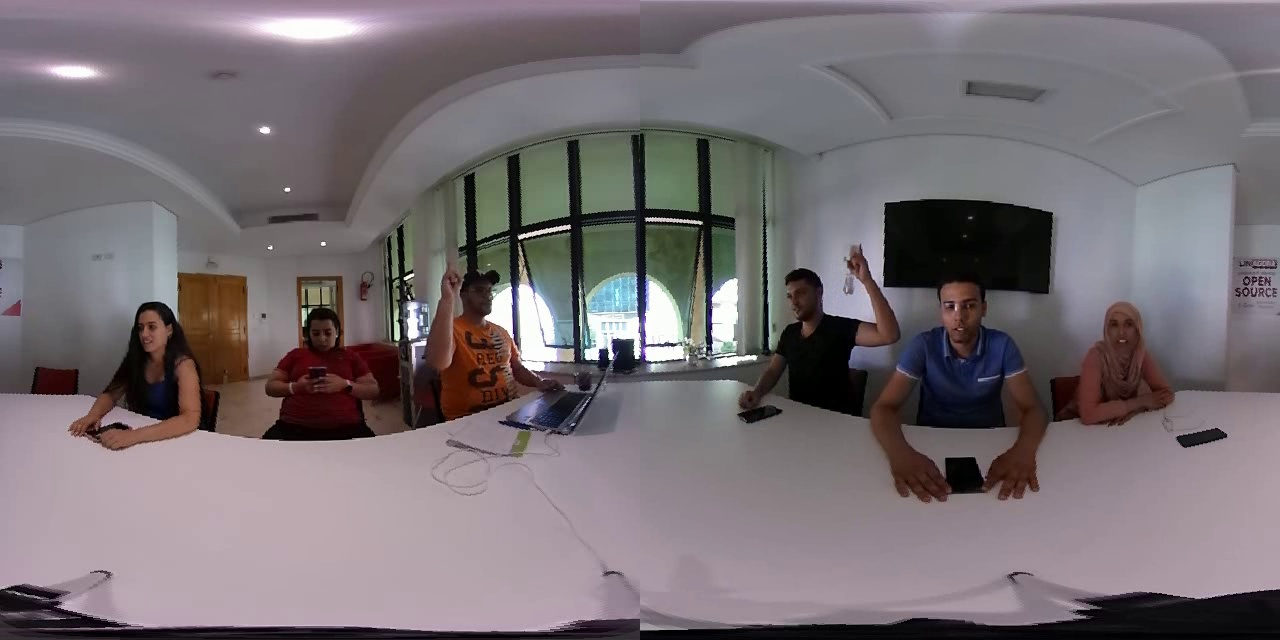person: (878, 249, 1053, 519), (724, 241, 896, 421), (57, 291, 213, 463), (419, 246, 562, 417), (244, 304, 394, 453), (1065, 287, 1182, 436)
speaking: (836, 245, 904, 357), (423, 256, 468, 383)
